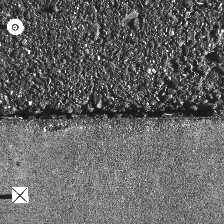circle: (6, 18, 24, 35)
crack: (1, 107, 223, 122)
square: (11, 187, 28, 203)
